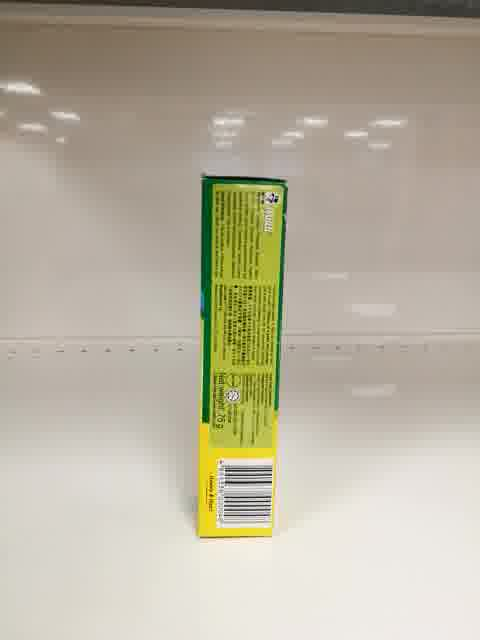toothpaste: (197, 174, 287, 542)
